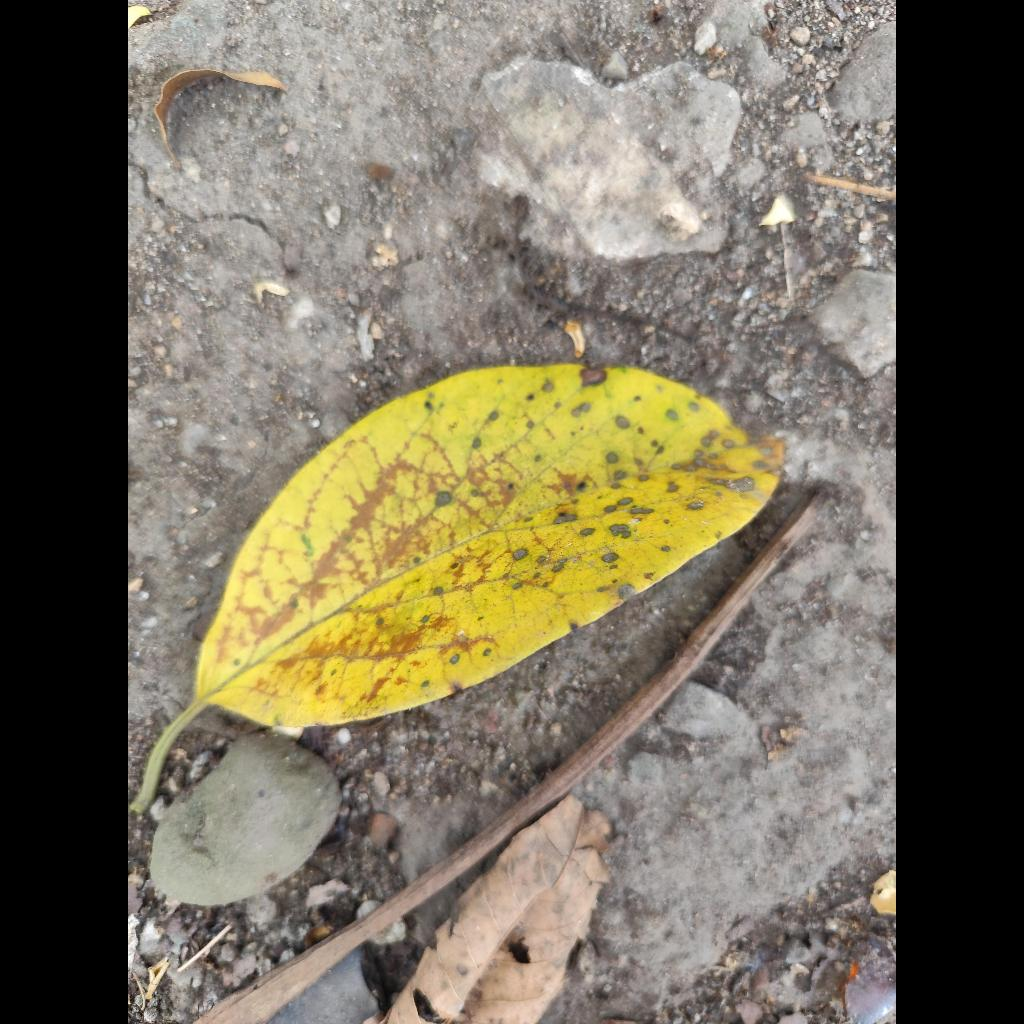deficiencia_nutricional: (184, 365, 783, 727)
